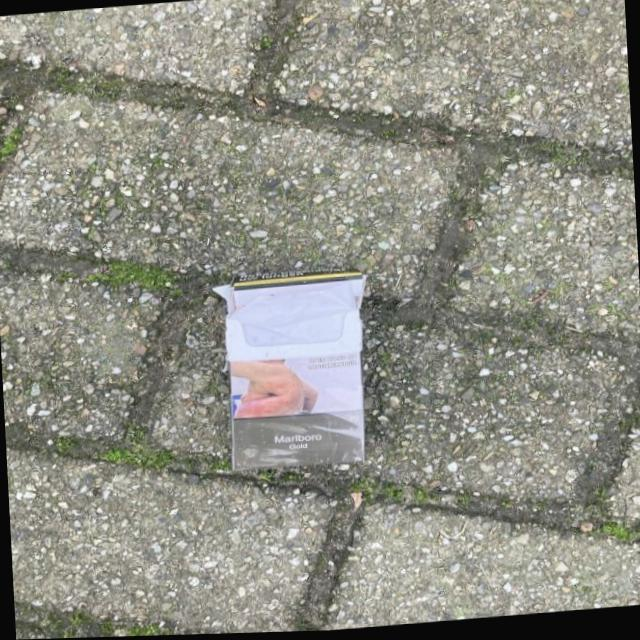Paper: (209, 262, 379, 478)
